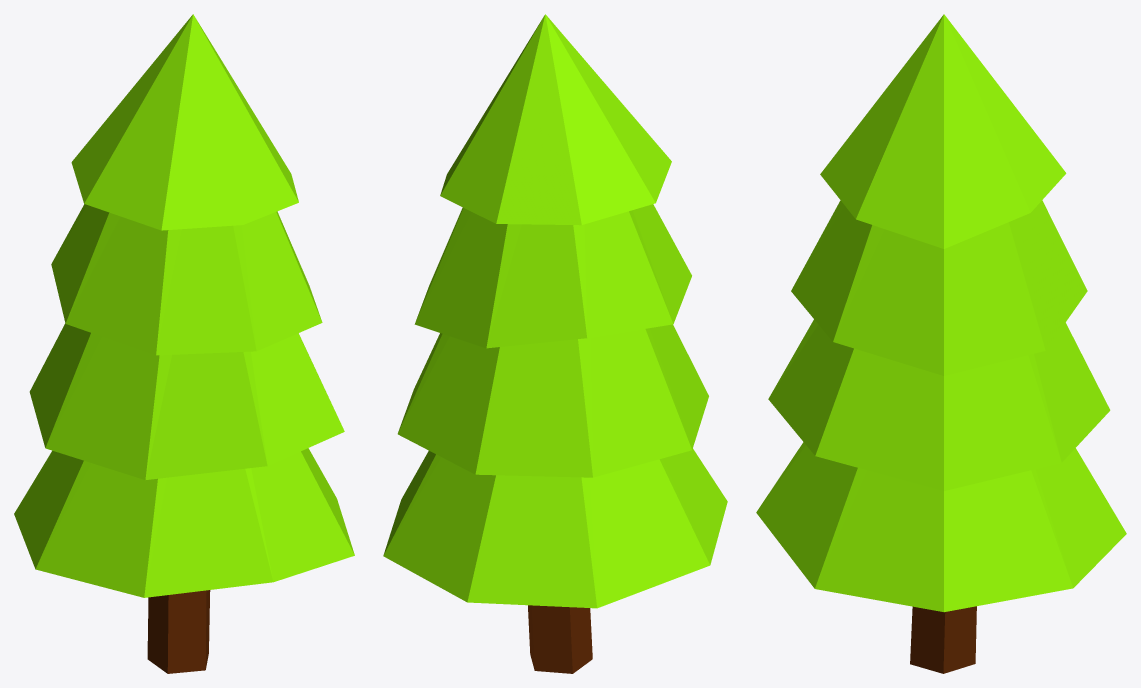
Rendered from 3D_NormalTree_001.FBX.
3 views of the same model, side by side, from view 1: azimuth 30°, elevation 25°; view 2: azimuth 150°, elevation 25°; view 3: azimuth 270°, elevation 25° (orthographic).
Visible parts, largest first — view 1: Leaves, Trunk; view 2: Leaves, Trunk; view 3: Leaves, Trunk.
Boxes of the visible parts, box(x1,y1,x2,y2) form: Leaves: box(14, 14, 354, 597); Trunk: box(147, 590, 210, 673); Leaves: box(383, 14, 727, 608); Trunk: box(528, 605, 592, 673); Leaves: box(756, 14, 1126, 612); Trunk: box(910, 606, 976, 673).
Bounding box in the file's own units: 275 × 286 × 555.
